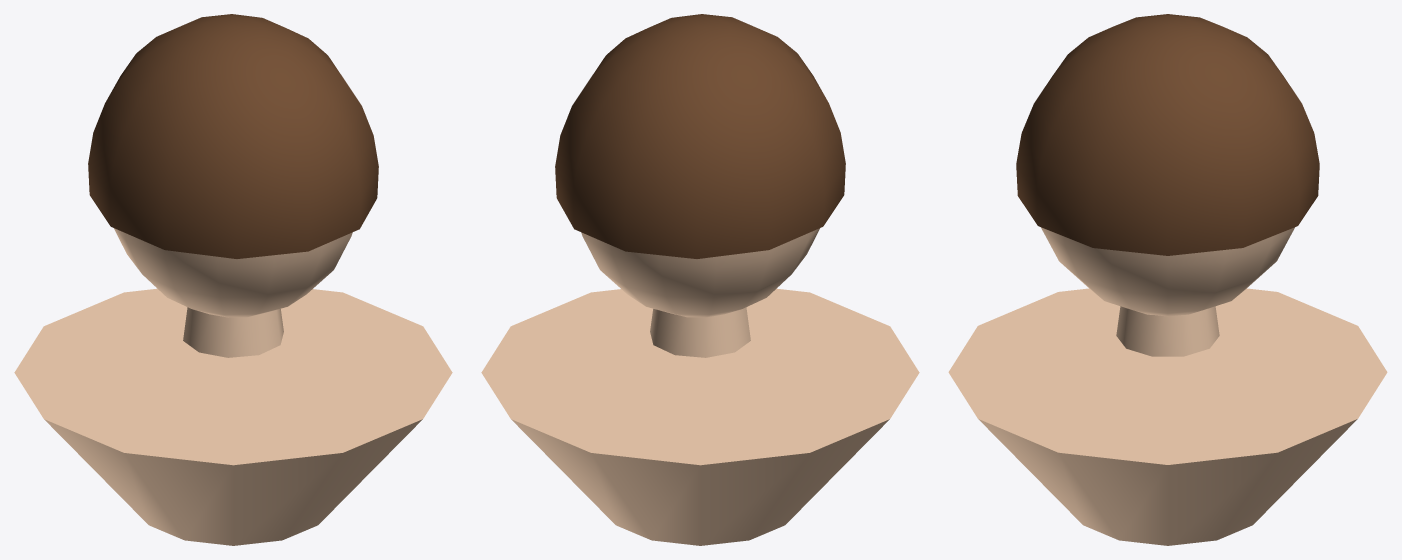
Rendered from raw_003.glb.
The picture shows the model from 3 angles, left to right: view 1: azimuth 30°, elevation 25°; view 2: azimuth 150°, elevation 25°; view 3: azimuth 270°, elevation 25°; orthographic projection.
Size of the model in its own units: 1.78 by 2.15 by 1.78.
